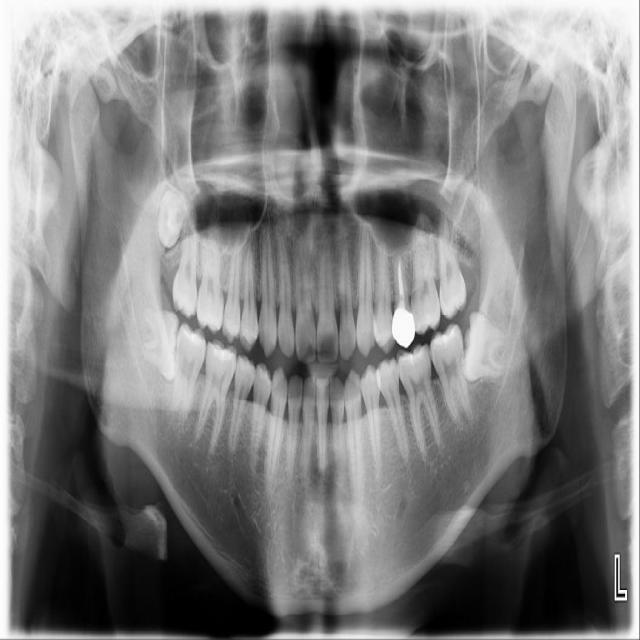Crown: (390, 301, 416, 348)
Filling: (206, 344, 232, 361)
Root Canal Treatment: (395, 252, 405, 304)
impacted tooth: (461, 312, 520, 381), (136, 309, 179, 380), (154, 164, 189, 246)
